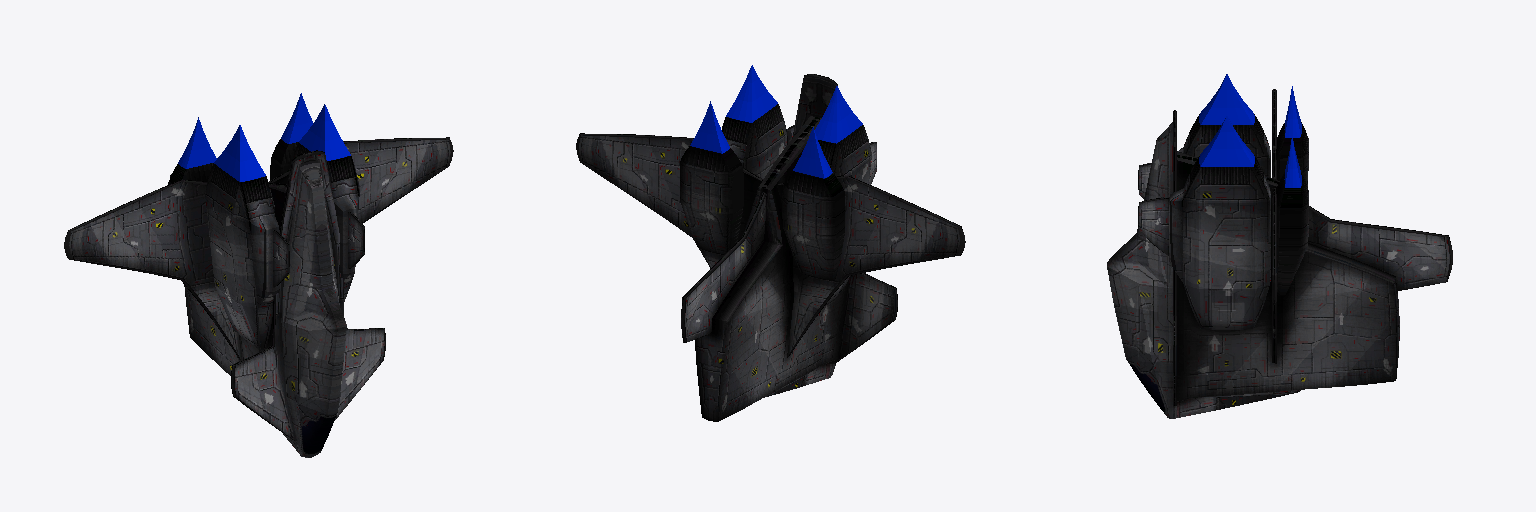
3 renders of one model, left to right at view 1: azimuth 30°, elevation 25°; view 2: azimuth 150°, elevation 25°; view 3: azimuth 270°, elevation 25°, orthographic.
Visible parts, largest first — view 1: body, engine; view 2: body, engine; view 3: body, engine.
Boxes of the visible parts, x1,y1,x2,y2 form: body: [64, 137, 453, 457]; engine: [178, 93, 350, 181]; body: [576, 74, 965, 421]; engine: [690, 65, 862, 178]; body: [1107, 89, 1452, 418]; engine: [1199, 74, 1301, 187].
Bounding box in the file's own units: 2.33 × 1.85 × 1.8.
Materials: 2 (1 with a texture image).